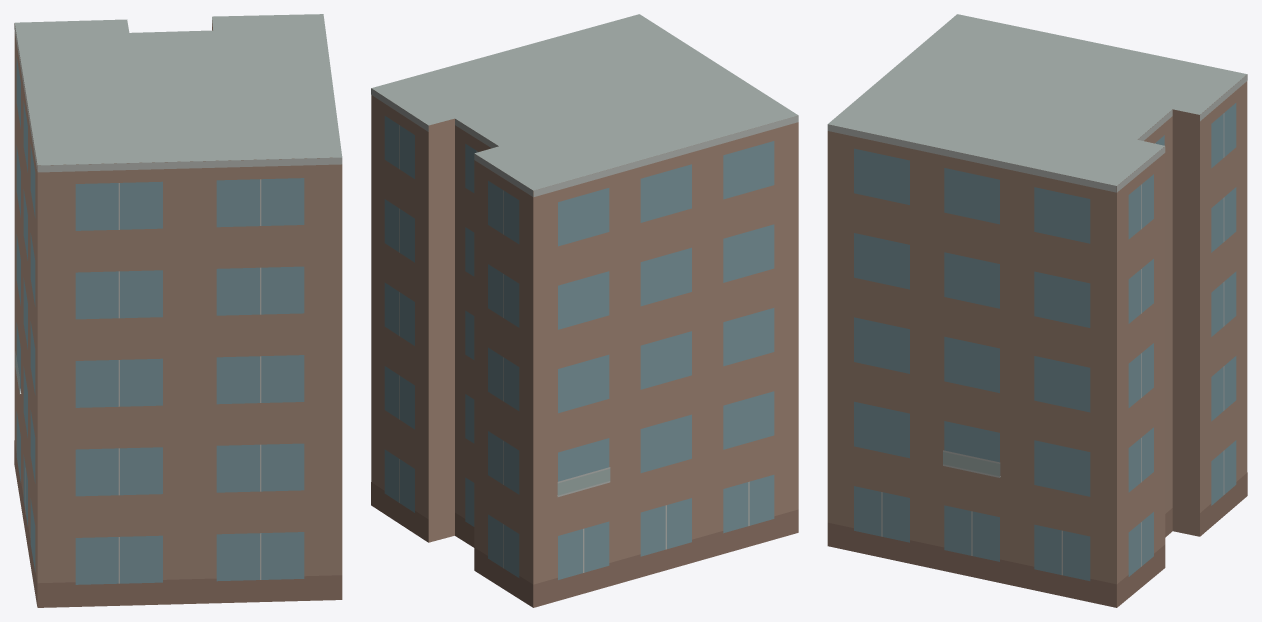
The model's file is survey-upis-32959668.glb.
3 views of the same model, side by side, from view 1: azimuth 30°, elevation 25°; view 2: azimuth 150°, elevation 25°; view 3: azimuth 270°, elevation 25° (orthographic). The views are drawn at different scales.
Visible parts, largest first — view 1: survey-upis-32959668.tmp; view 2: survey-upis-32959668.tmp; view 3: survey-upis-32959668.tmp.
Boxes of the visible parts, left/top/right/bottom form: survey-upis-32959668.tmp: left=14, top=14, right=342, bottom=607; survey-upis-32959668.tmp: left=371, top=14, right=798, bottom=607; survey-upis-32959668.tmp: left=827, top=14, right=1247, bottom=607.
Bounding box in the file's own units: 13.48 × 15.4 × 13.9.
